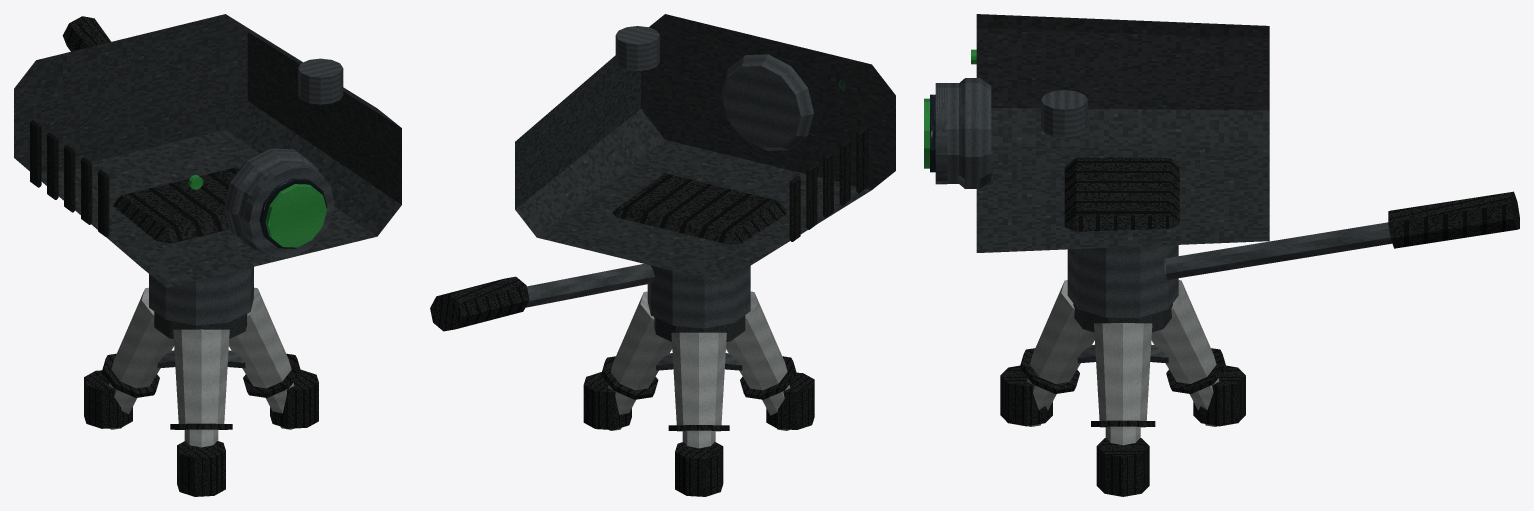
The model's file is blender_dots_projector_2_deployed.glb.
The picture shows the model from 3 angles, left to right: view 1: azimuth 30°, elevation 25°; view 2: azimuth 150°, elevation 25°; view 3: azimuth 270°, elevation 25°; orthographic projection. The views are drawn at different scales.
Visible parts, largest first — view 1: blender_dots_projector_2_deployed; view 2: blender_dots_projector_2_deployed; view 3: blender_dots_projector_2_deployed.
Boxes of the visible parts, x1,y1,x2,y2 form: blender_dots_projector_2_deployed: (14,14,401,496); blender_dots_projector_2_deployed: (430,14,895,496); blender_dots_projector_2_deployed: (924,14,1519,496).
Bounding box in the file's own units: 0.1078 × 0.1476 × 0.2035.
Materials: 6 (6 with a texture image).
